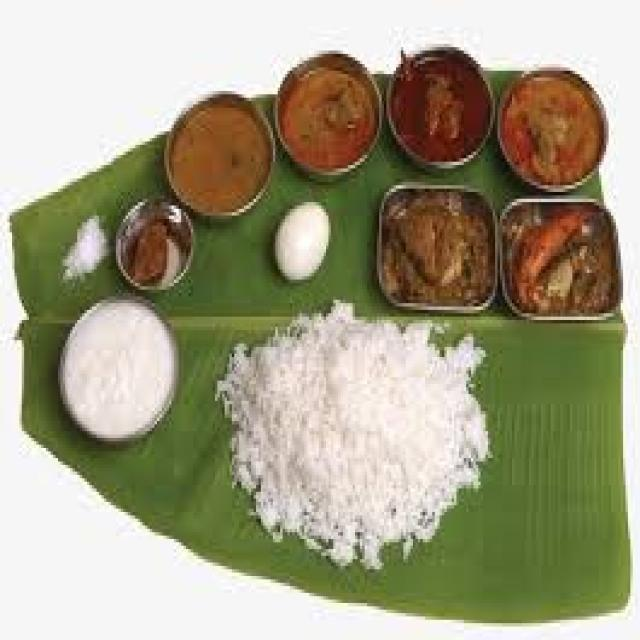curd: (53, 292, 183, 444)
pickle: (117, 204, 194, 288)
rice: (222, 304, 483, 575)
sambar-rasam: (165, 92, 272, 215)
veg: (275, 57, 376, 172)
